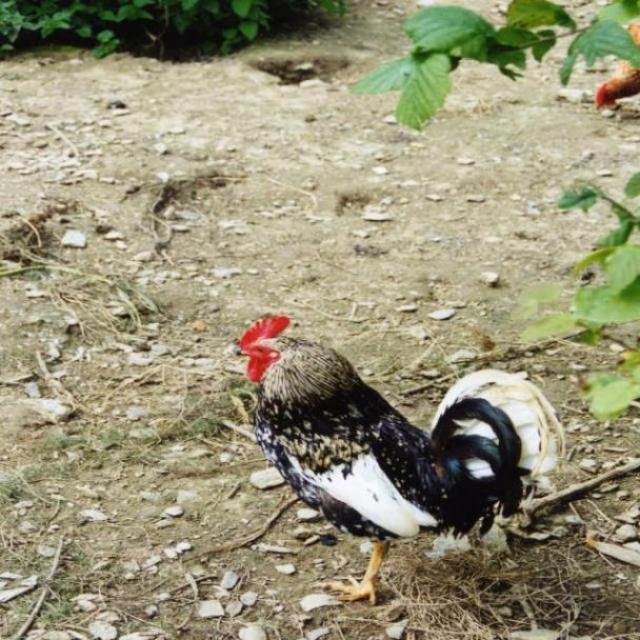Chicken: (236, 306, 550, 613), (588, 18, 639, 111)
